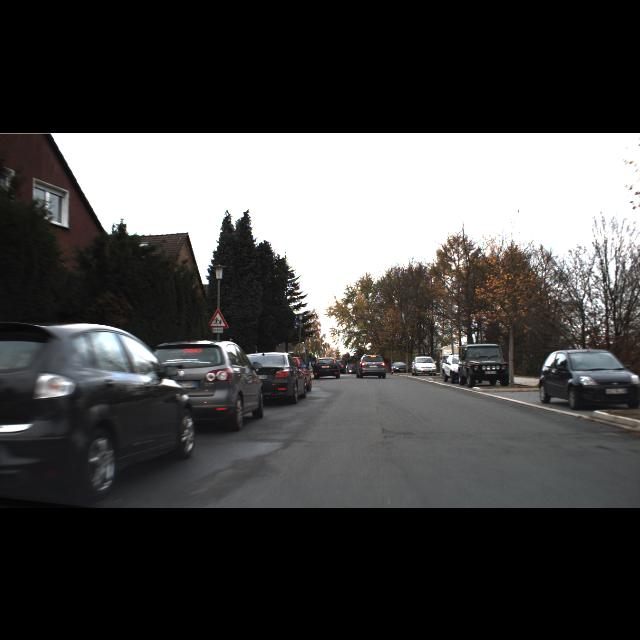danger: (209, 307, 229, 327)
